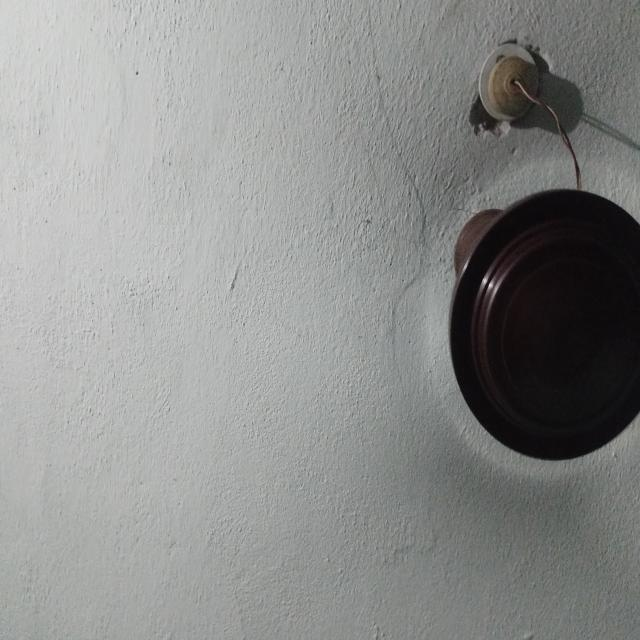fan_on: (271, 2, 640, 639)
